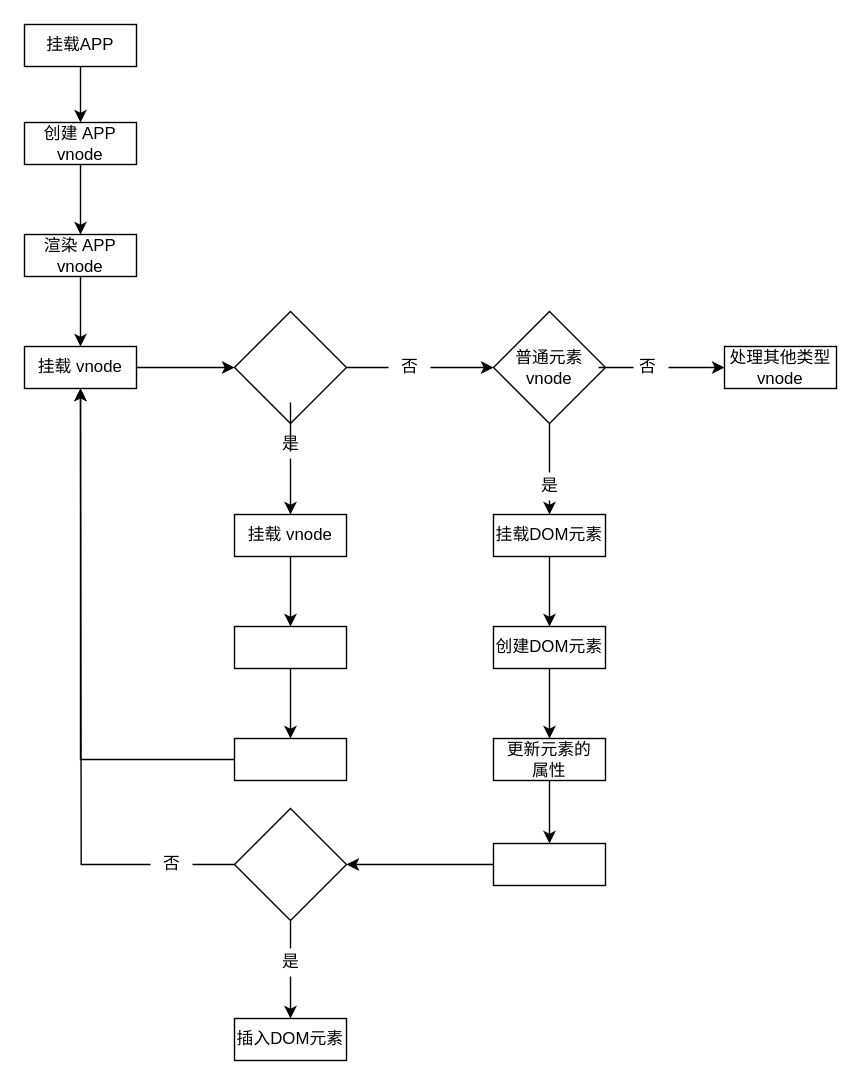
Some shapes in this 861 by 1085 pixel diagram are drawn without their labels. Here are the shapes that lost their labels. From the top down, the box of each, then its label:
(233, 310, 346, 424): 组件 vnode
(233, 625, 346, 668): 初始化组件
(233, 737, 346, 780): 渲染组件子树 vnode
(233, 807, 346, 920): 递归完成
(492, 842, 606, 886): 递归挂载 子节点
